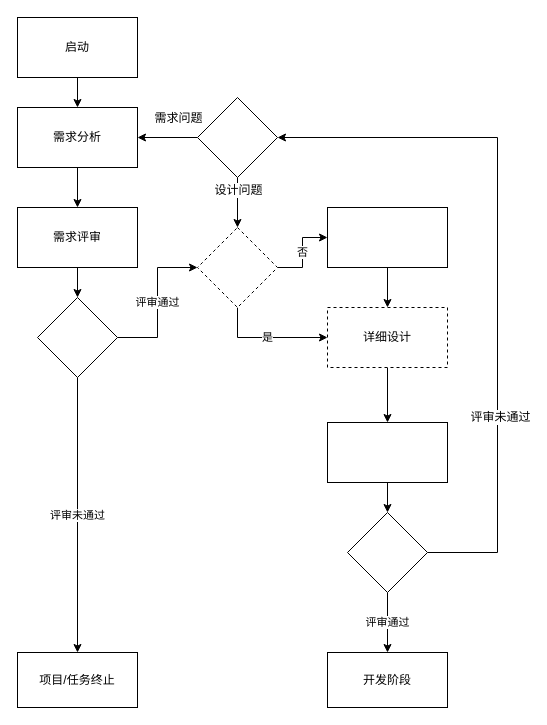
Image size: 547x725. Some labels were removed from this diagram. Here are the shapes that lost their labels. From the top down, the centre of each, then its label:
the point at 387,237: 总体设计
the point at 237,267: 是否迭代 开发阶段
the point at 387,452: 设计评审
